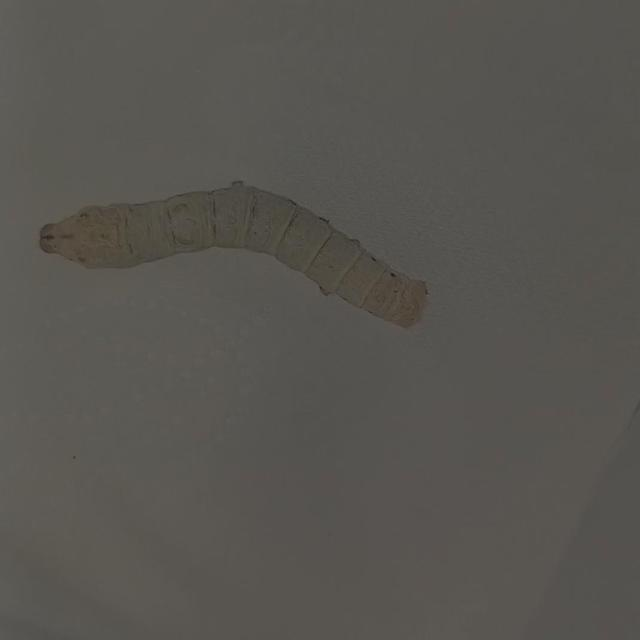Healthy: (26, 168, 439, 346)
